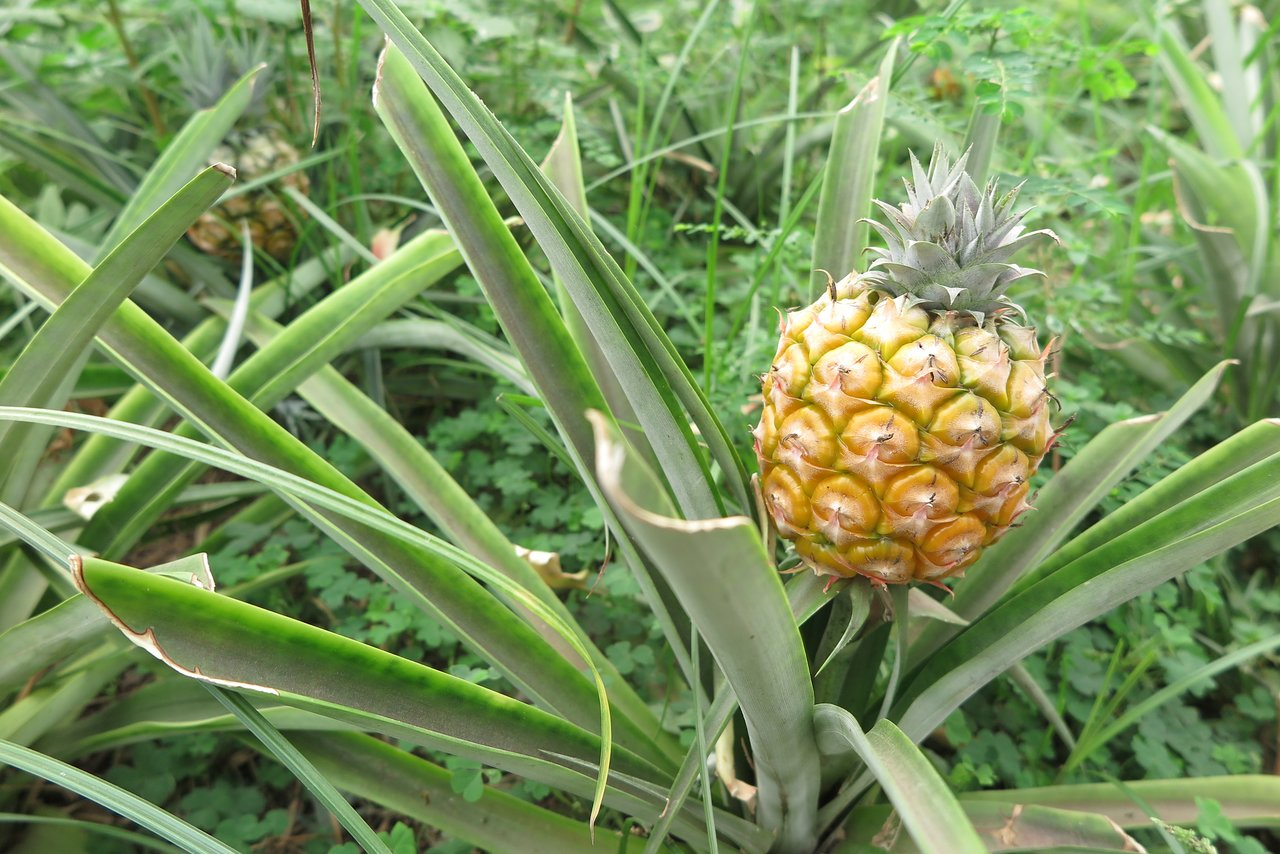pineapple: (749, 205, 1062, 601)
